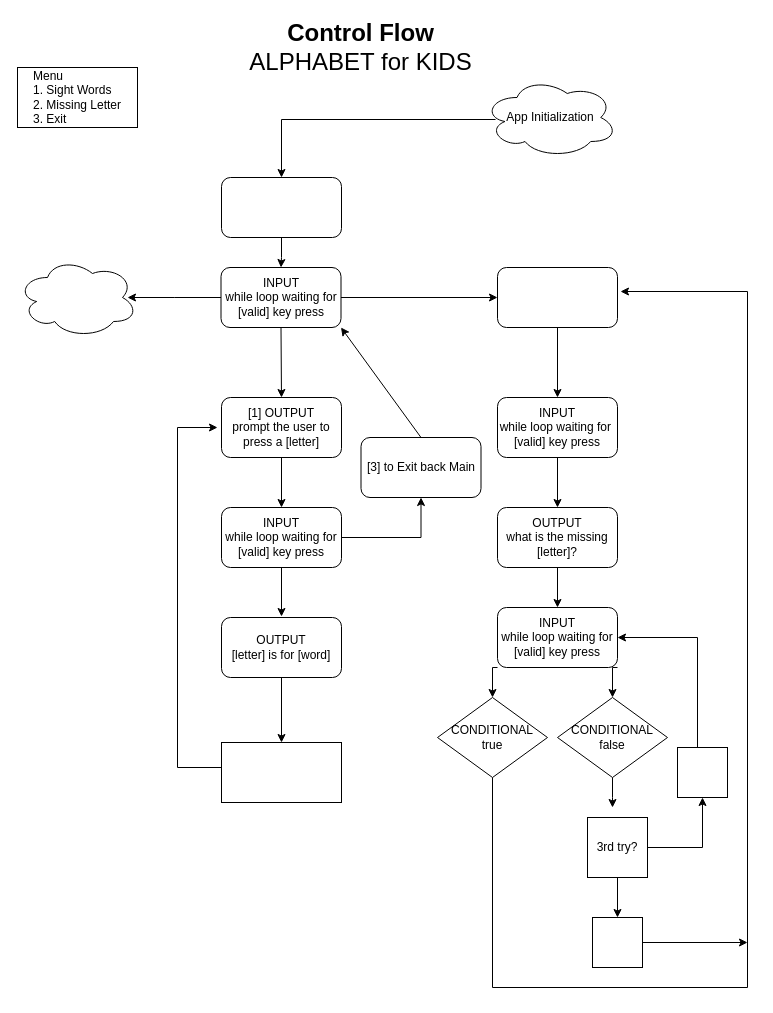
Some shapes in this 773 by 1013 pixel diagram are drawn without their labels. The centre of each missing label's shape, as x and y in pixels:
"[2] OUTPUT prompt the user to press a [letter]" goes at point 557,297.
"[3] Exit" goes at point 77,297.
"No" goes at point 702,772.
"OUTPUT Title Screen/Menu" goes at point 281,207.
"Wait 4 seconds" goes at point 281,772.
"Yes" goes at point 617,942.
